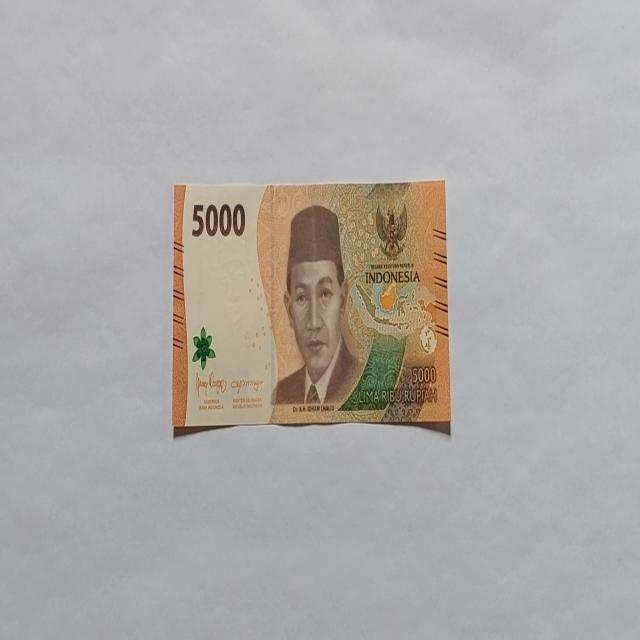lima ribu rupiah: (172, 180, 450, 436), (270, 203, 364, 410)
